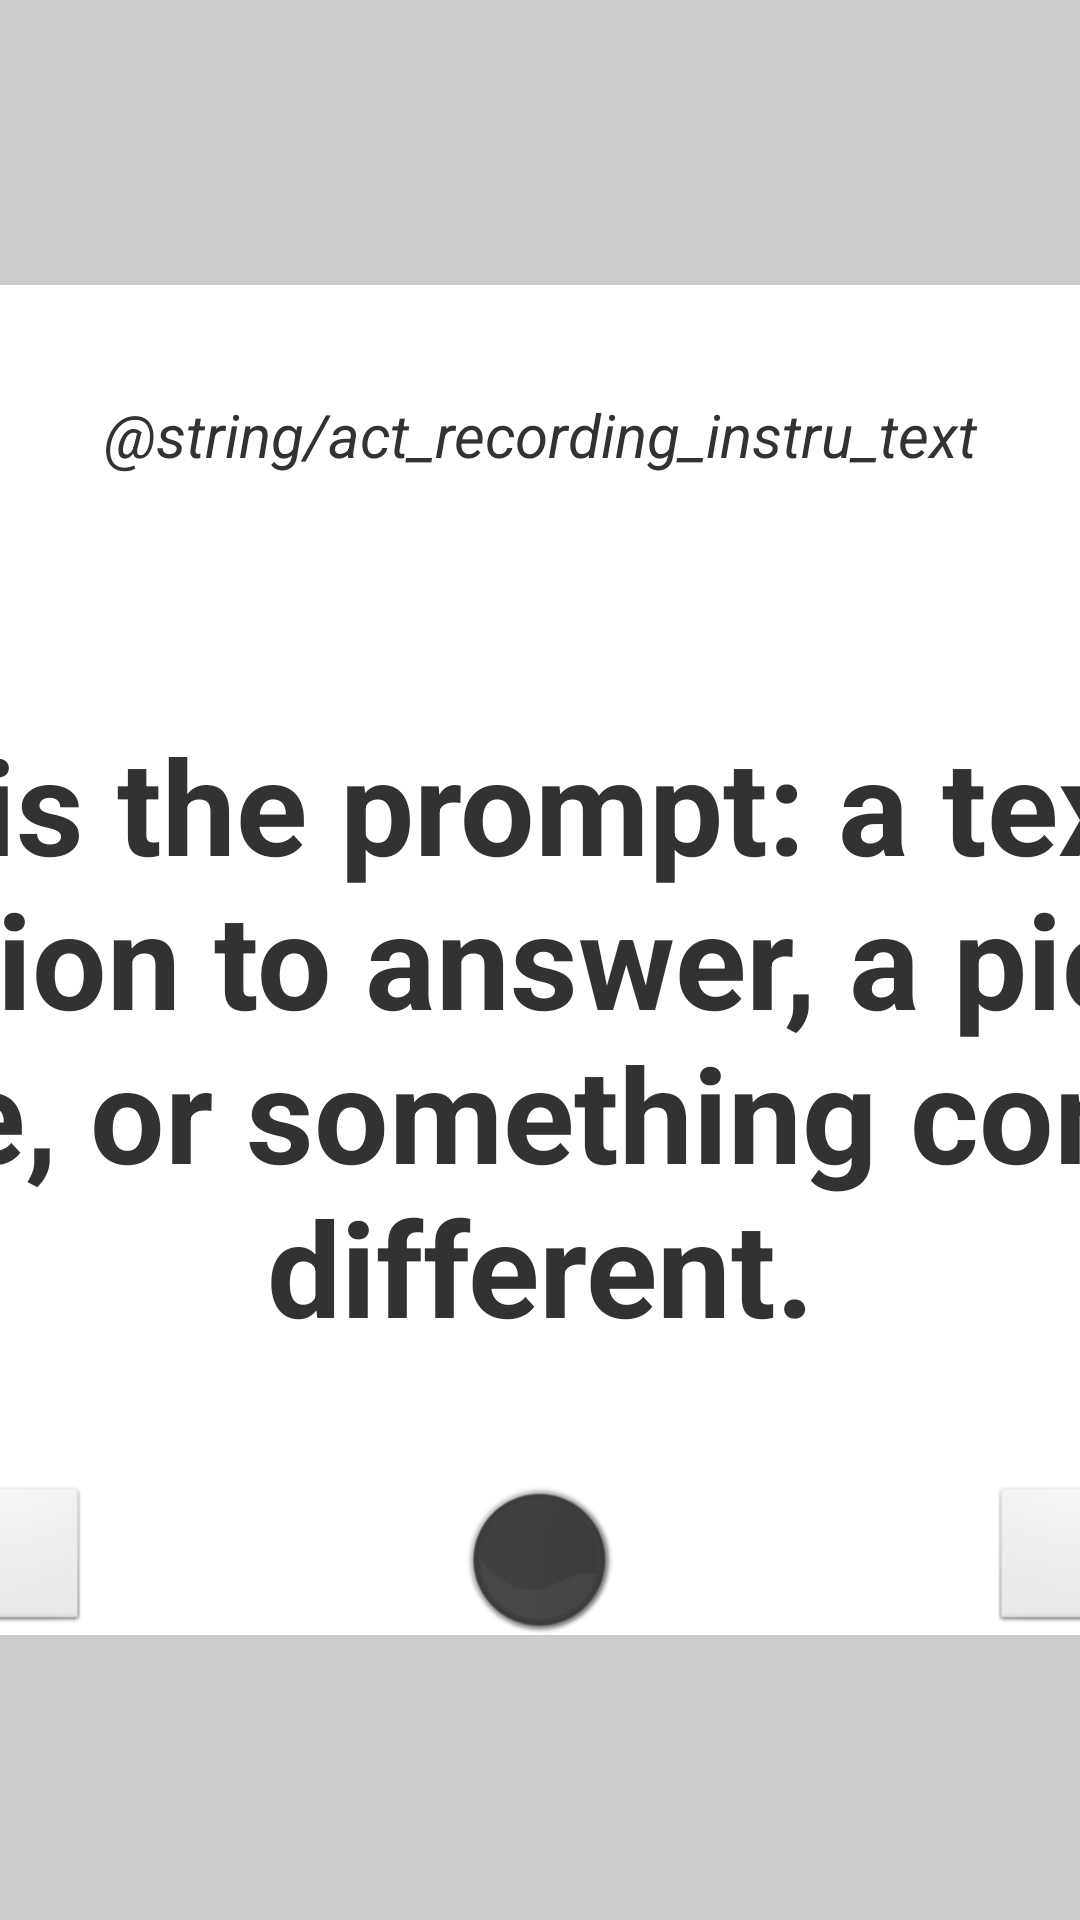

Icon bounding boxes for this 1080 × 1920 phone screenshot, format (left=x1, top=y1, right=x2, bottom=y2):
circle: (left=469, top=1489, right=611, bottom=1631)
